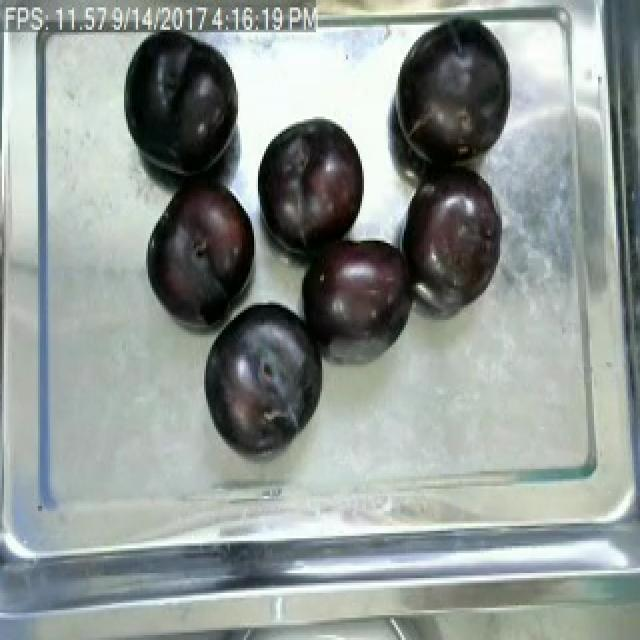Fruit: (388, 15, 516, 171), (198, 298, 322, 457), (118, 30, 246, 184), (142, 176, 262, 330), (250, 112, 376, 258), (294, 226, 424, 362), (396, 158, 510, 312)
